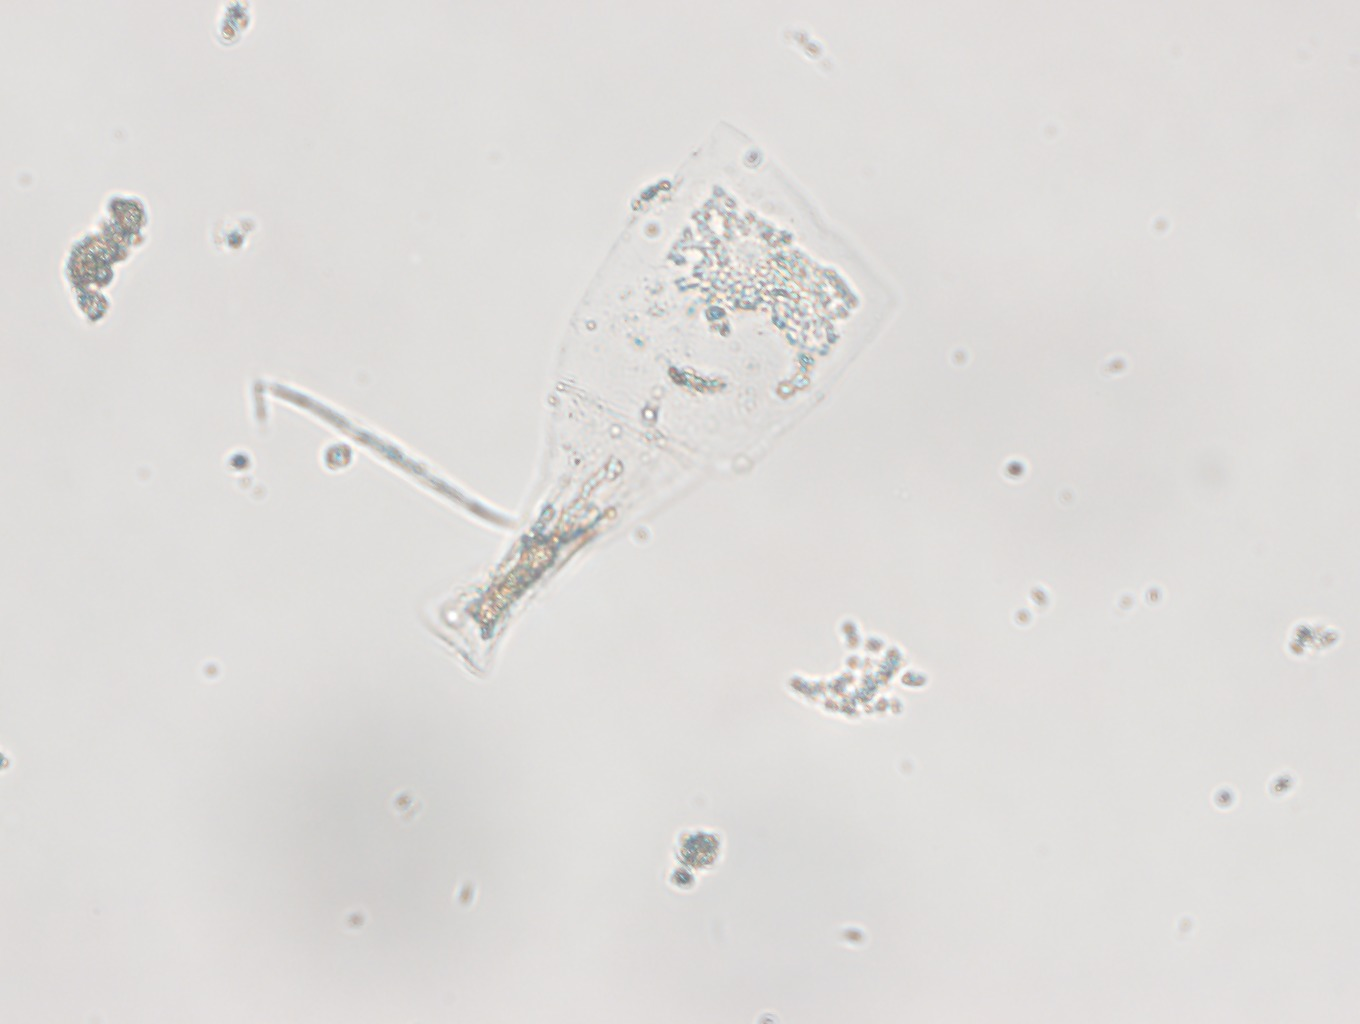helicotheca: (425, 119, 900, 680)
